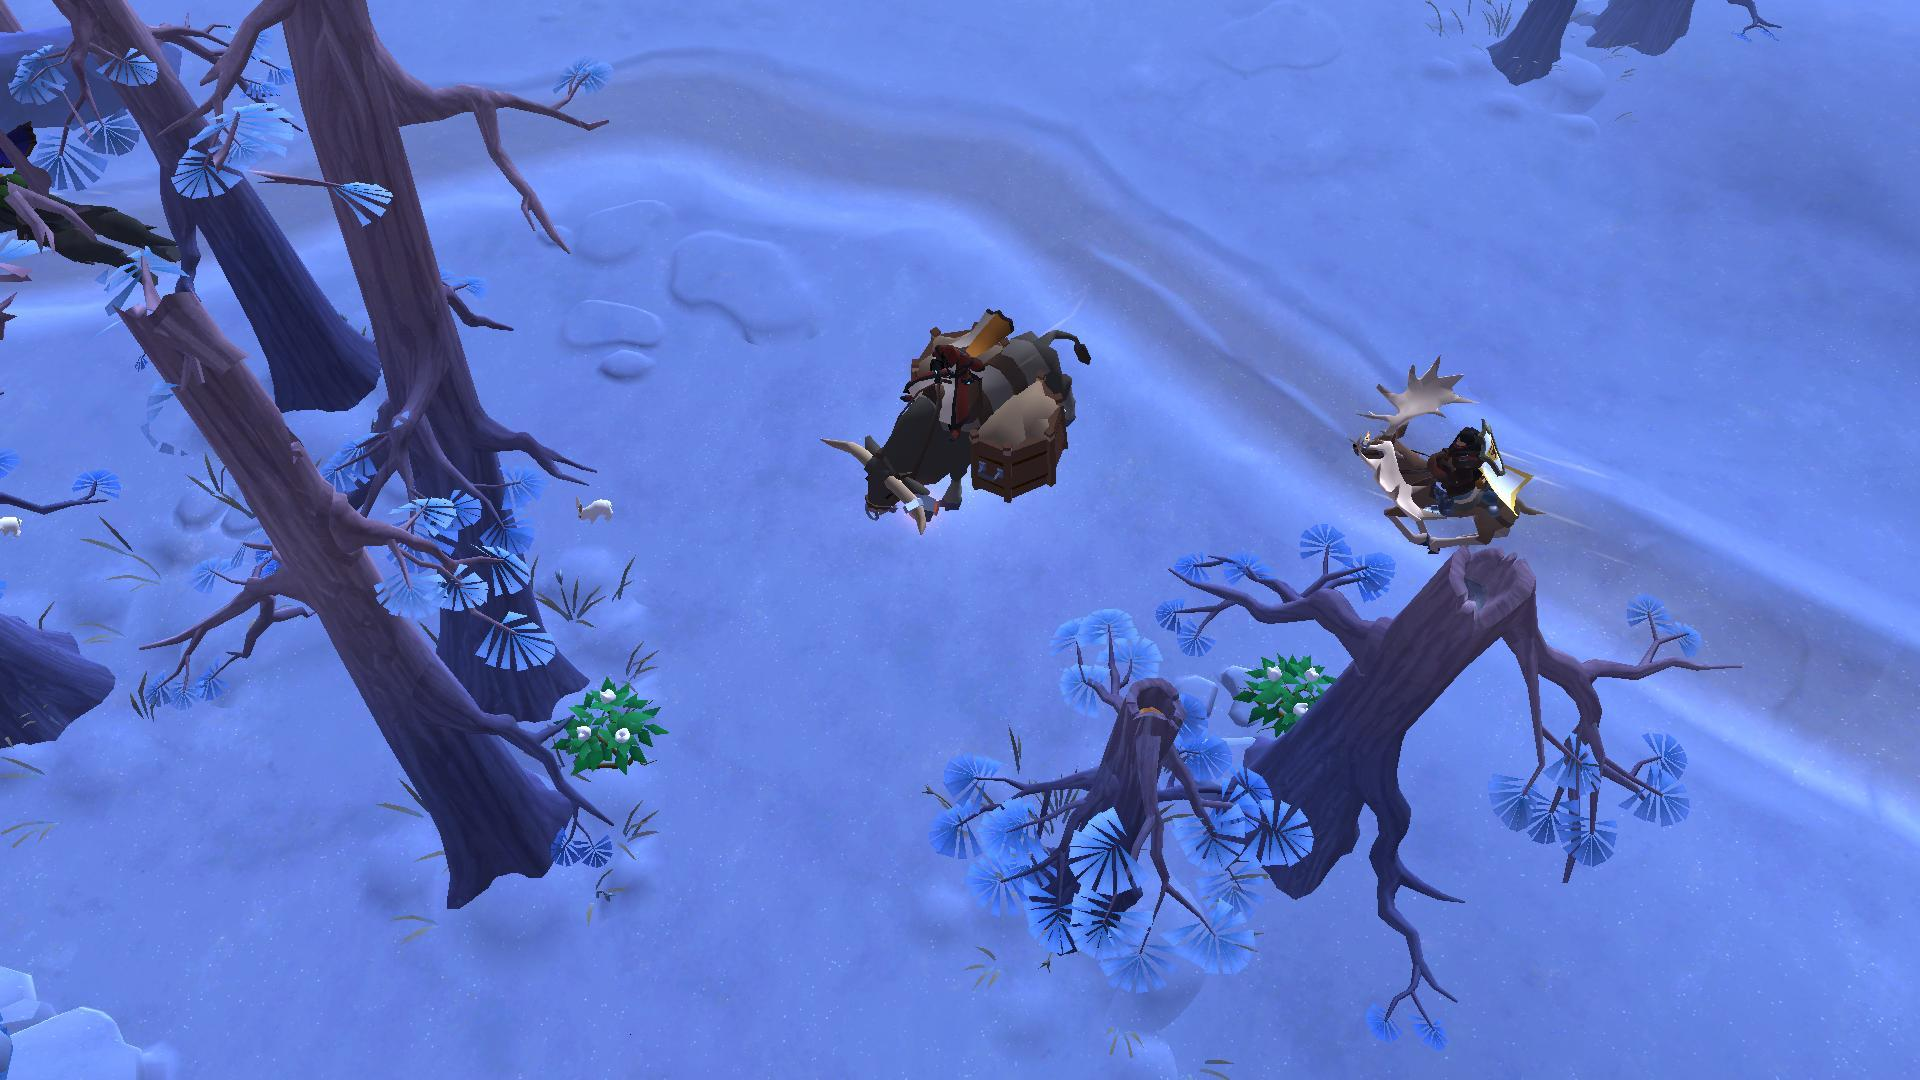fiber_t3: (543, 674, 666, 767), (1237, 651, 1346, 731)
